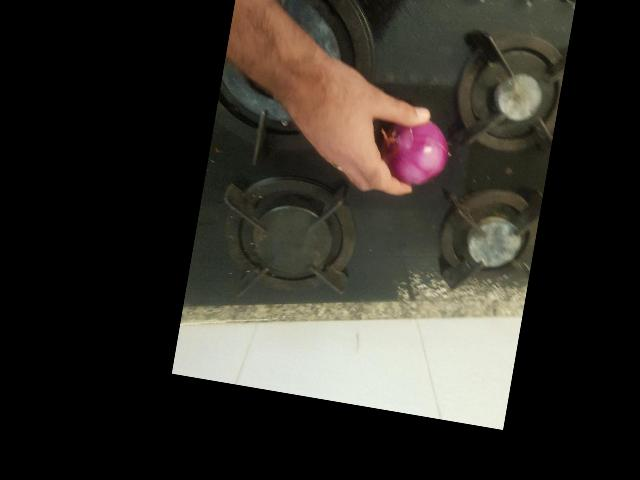onion: (410, 248, 489, 327)
